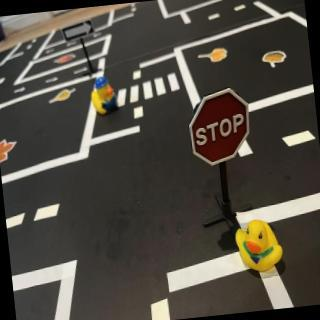duck_regular: (232, 215, 287, 277)
duck_specialty: (86, 73, 122, 116)
road_crosswalk: (112, 70, 186, 111)
road_oneway: (12, 83, 31, 95), (71, 67, 91, 77), (45, 76, 63, 87)
sign_oneway_right: (64, 20, 97, 42)
sign_stop: (186, 85, 255, 164)
